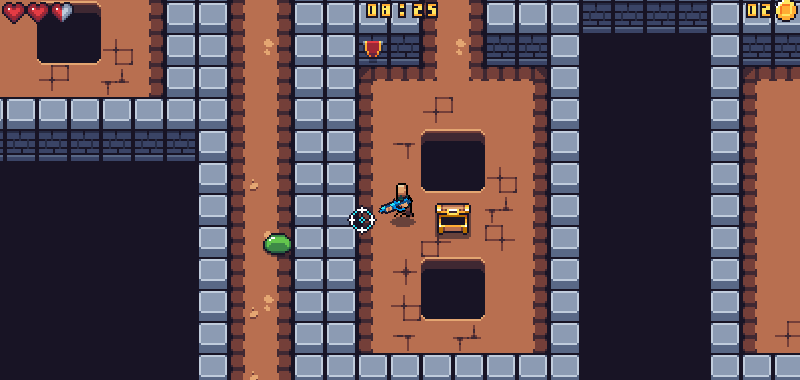enemy_slug: (262, 230, 293, 256)
treasury_open: (432, 199, 474, 240)
